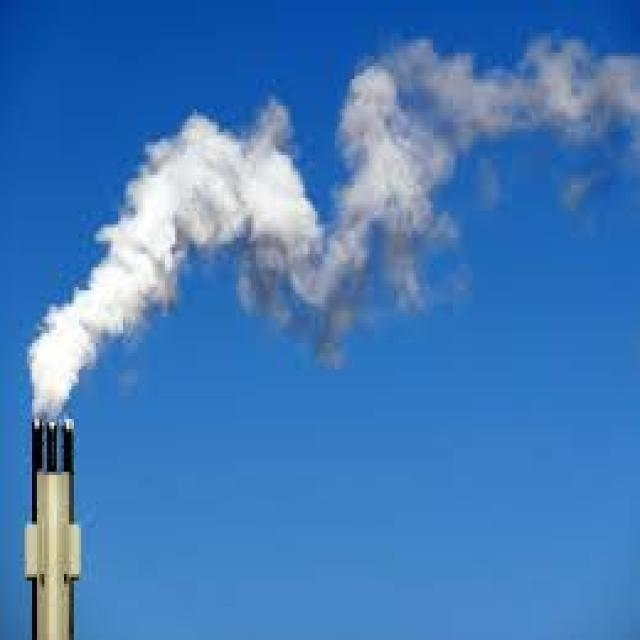Smoke: (25, 27, 640, 418)
